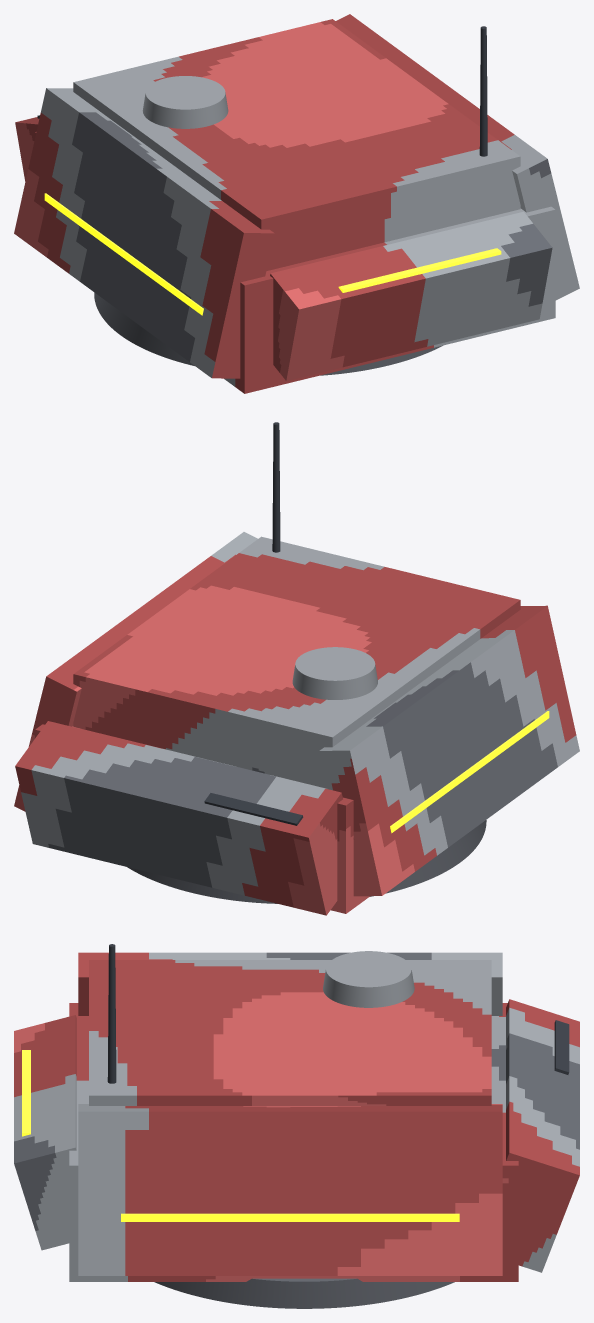
File: Explosion_turret.glb
The picture shows the model from 3 angles, top to bottom: view 1: azimuth 30°, elevation 25°; view 2: azimuth 150°, elevation 25°; view 3: azimuth 270°, elevation 25°; orthographic projection. The views are drawn at different scales.
Parts seen in each view (by area): view 1: Explosion_Turret; view 2: Explosion_Turret; view 3: Explosion_Turret.
Boxes of the visible parts, x1=… form: Explosion_Turret: x1=14, y1=14, x2=579, y2=393; Explosion_Turret: x1=14, y1=422, x2=579, y2=915; Explosion_Turret: x1=14, y1=944, x2=579, y2=1308.
Bounding box in the file's own units: 2.56 × 2.03 × 3.18.
